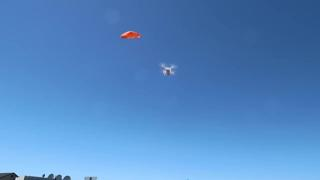UAV: (162, 64, 174, 77)
